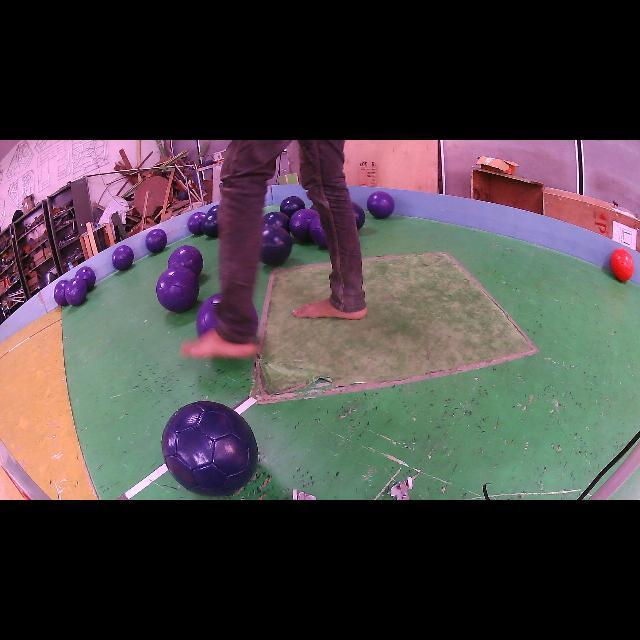B: (161, 401, 258, 496), (260, 225, 292, 265), (262, 211, 290, 231), (280, 196, 305, 218), (201, 215, 218, 238), (352, 202, 365, 230), (206, 205, 219, 214)
P: (156, 266, 200, 312), (168, 245, 202, 276), (196, 294, 221, 336), (290, 209, 318, 241), (366, 191, 395, 219), (65, 278, 88, 306), (309, 215, 328, 248), (112, 245, 134, 270), (145, 229, 168, 252), (75, 266, 96, 291), (188, 211, 206, 235), (54, 280, 69, 306)
R: (611, 248, 634, 281)
